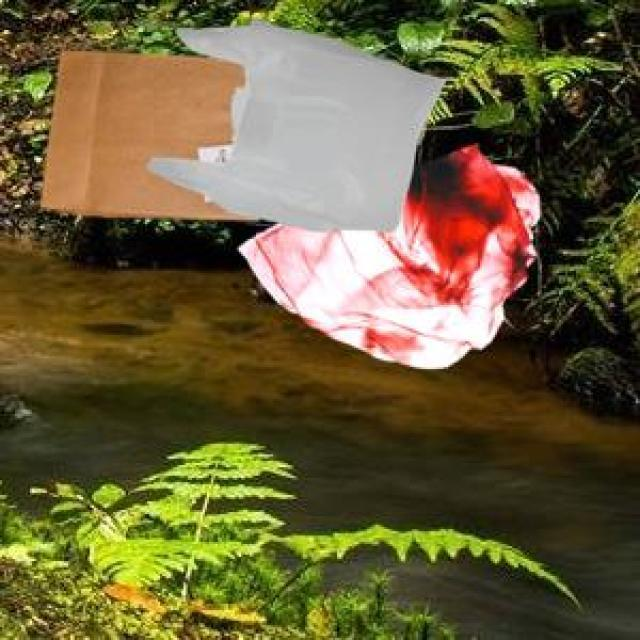paper: (36, 48, 253, 216)
